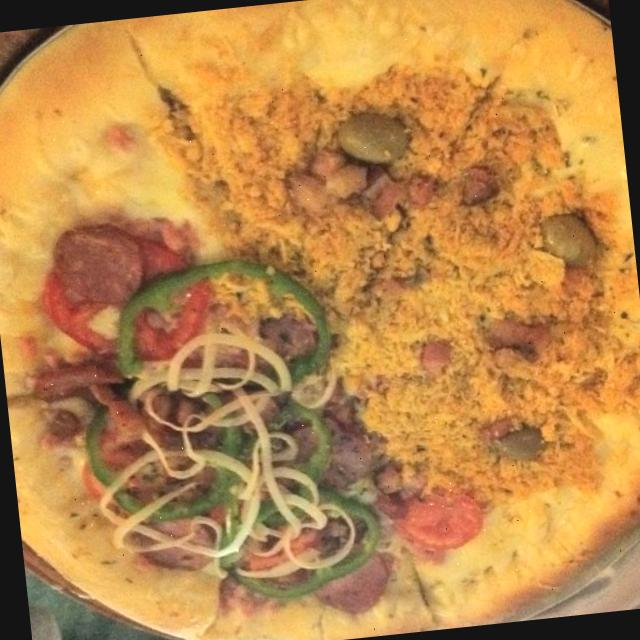Bell Pepper: (85, 244, 333, 410), (70, 390, 235, 532)
pizza: (0, 0, 640, 640)
tomato: (8, 216, 210, 372), (382, 454, 502, 594)
